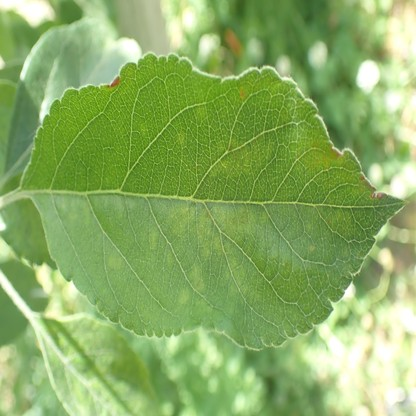frogeye_leaf_spot: (110, 78, 119, 87)
scab: (200, 203, 266, 252), (226, 256, 261, 301), (165, 201, 196, 231), (316, 144, 339, 167), (148, 221, 160, 248), (189, 266, 202, 290), (106, 252, 122, 271), (178, 287, 189, 303)
